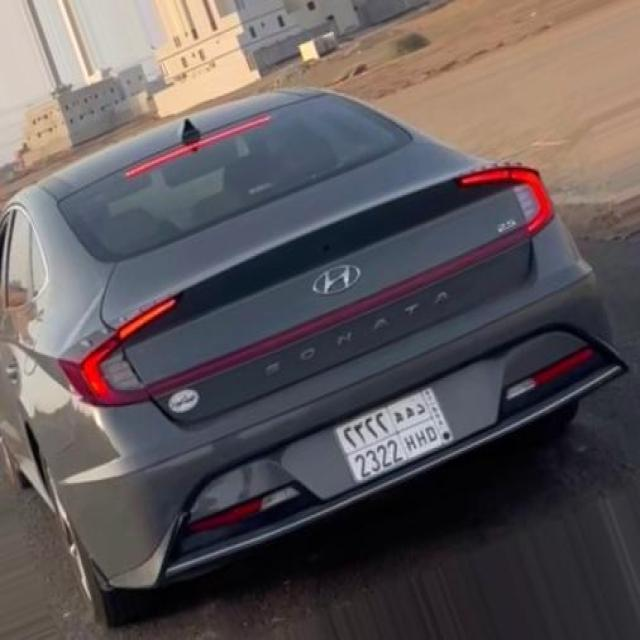Car-plate: (324, 374, 467, 489)
